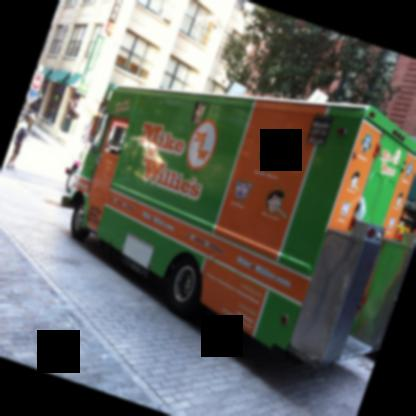backpack: (15, 127, 25, 142)
